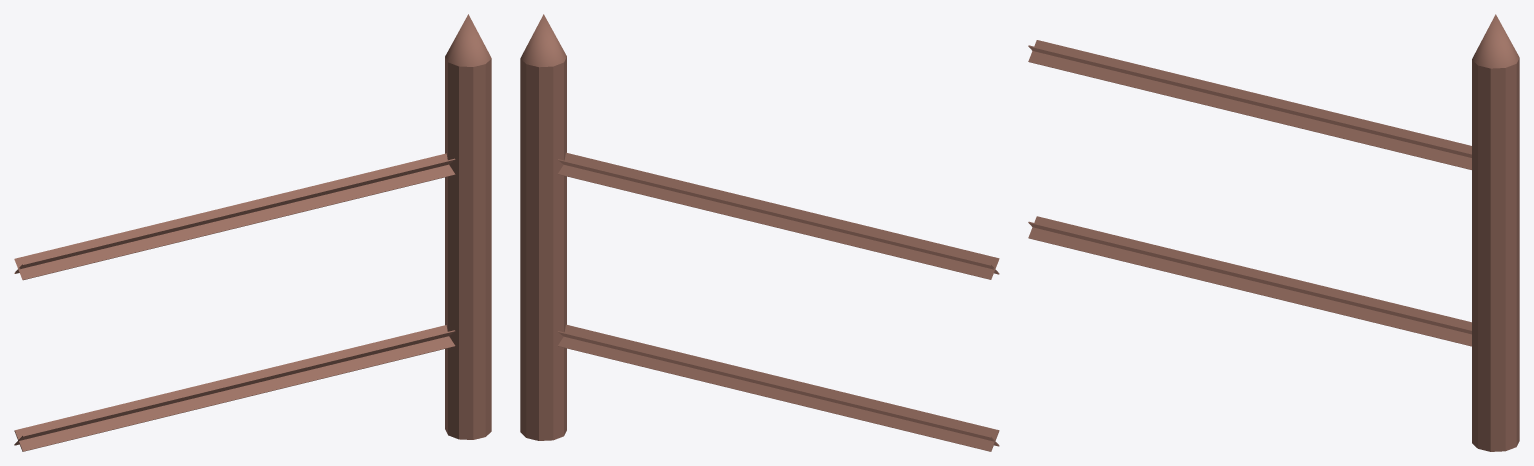
File: Fence_1.fbx
3 views of the same model, side by side, from view 1: azimuth 30°, elevation 25°; view 2: azimuth 150°, elevation 25°; view 3: azimuth 330°, elevation 25° (orthographic). The views are drawn at different scales.
Visible parts, largest first — view 1: Fence_1; view 2: Fence_1; view 3: Fence_1.
Part boxes in pixels (left/top/right/bottom): Fence_1: left=14, top=14, right=491, bottom=451; Fence_1: left=520, top=14, right=999, bottom=451; Fence_1: left=1028, top=14, right=1519, bottom=451.
Bounding box in the file's own units: 1.95 × 1.65 × 0.1599.
